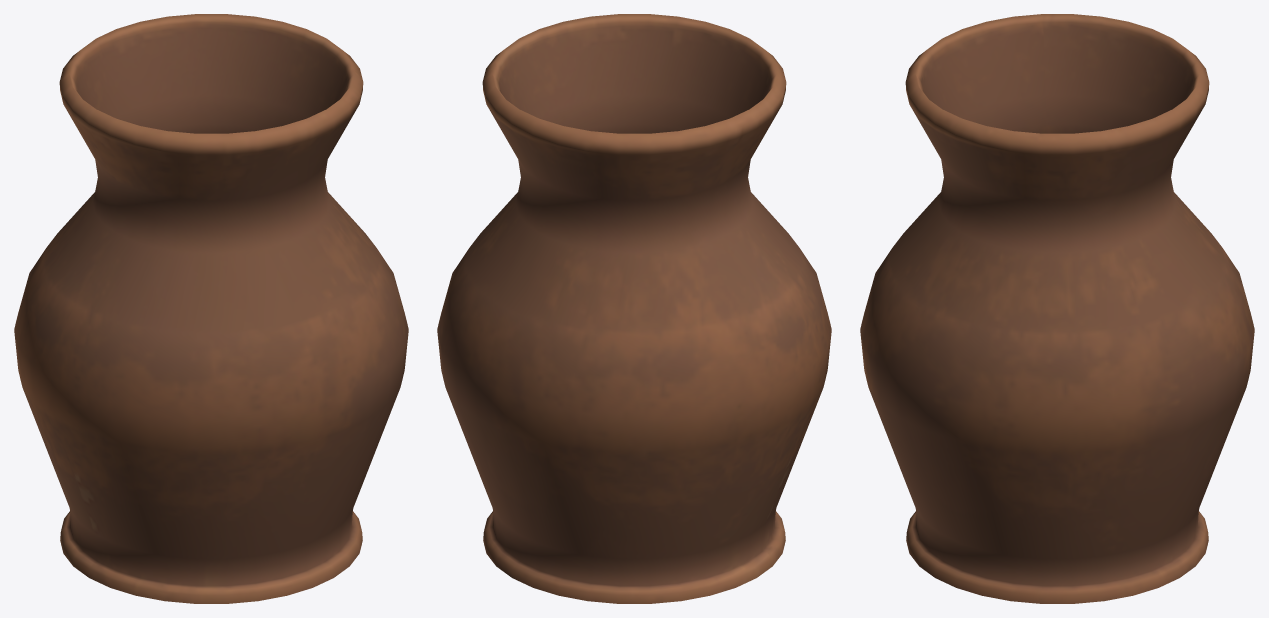
The model's file is SM_ClayVases_03.fbx.
The picture shows the model from 3 angles, left to right: view 1: azimuth 30°, elevation 25°; view 2: azimuth 150°, elevation 25°; view 3: azimuth 270°, elevation 25°; orthographic projection.
Parts seen in each view (by area): view 1: SM_ClayVases_03_LOD0; view 2: SM_ClayVases_03_LOD0; view 3: SM_ClayVases_03_LOD0.
Part boxes in pixels (bbox=[...]): SM_ClayVases_03_LOD0: bbox=[14, 14, 408, 603]; SM_ClayVases_03_LOD0: bbox=[437, 14, 831, 603]; SM_ClayVases_03_LOD0: bbox=[860, 14, 1254, 603].
Size of the model in its own units: 17.9 by 18 by 23.48.
Materials: 1 (1 with a texture image).
